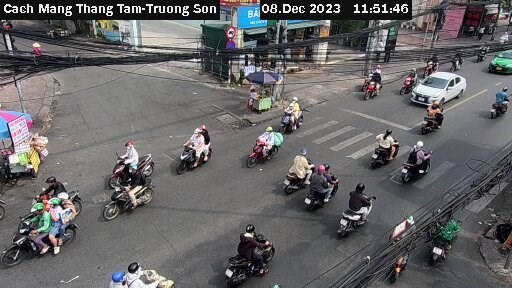car: (406, 65, 467, 107), (486, 42, 512, 75)
motorbike: (338, 164, 397, 235), (6, 206, 76, 259), (90, 173, 171, 218), (219, 227, 284, 277), (25, 174, 94, 212), (172, 128, 221, 175), (106, 255, 174, 288), (423, 210, 468, 258), (242, 125, 287, 169), (103, 144, 164, 176), (276, 151, 319, 194), (303, 167, 344, 212), (277, 90, 316, 134), (398, 143, 434, 185), (419, 101, 453, 137), (361, 128, 394, 164), (362, 66, 389, 103), (488, 85, 512, 123)
